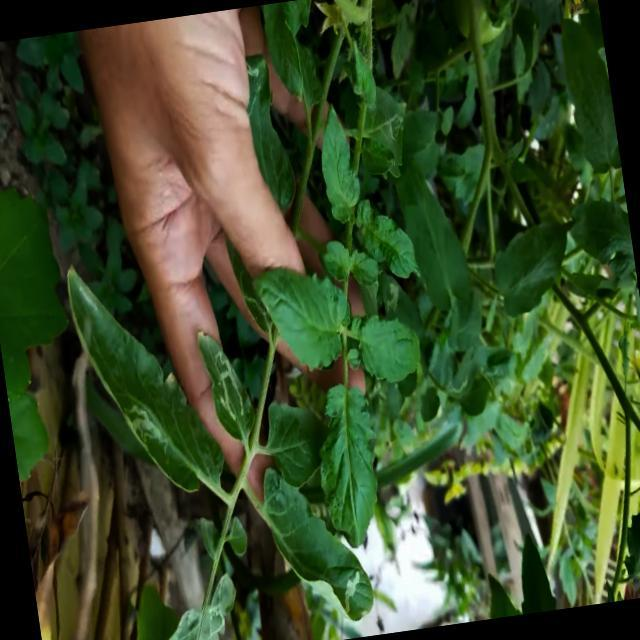Tomato healthy leaf: (0, 167, 90, 483), (307, 379, 392, 553), (391, 148, 476, 320), (252, 256, 358, 378), (558, 13, 622, 179), (487, 214, 579, 321), (311, 99, 367, 231), (356, 310, 425, 389)
Tomato target spot leaf: (64, 248, 228, 507), (262, 454, 376, 634), (240, 49, 300, 219), (195, 324, 258, 446), (136, 571, 246, 640), (359, 83, 417, 184), (379, 266, 426, 345), (439, 352, 481, 401)
